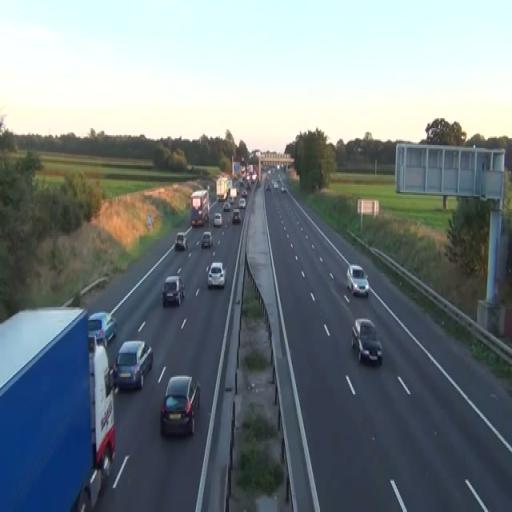Car: (160, 376, 201, 438), (114, 340, 154, 391), (351, 318, 383, 366), (88, 310, 118, 348), (346, 264, 370, 298), (161, 276, 185, 307), (206, 261, 226, 289), (175, 233, 186, 251), (202, 232, 212, 249), (232, 210, 242, 224), (213, 212, 222, 226)
Truck: (0, 307, 116, 507), (190, 189, 210, 228)
